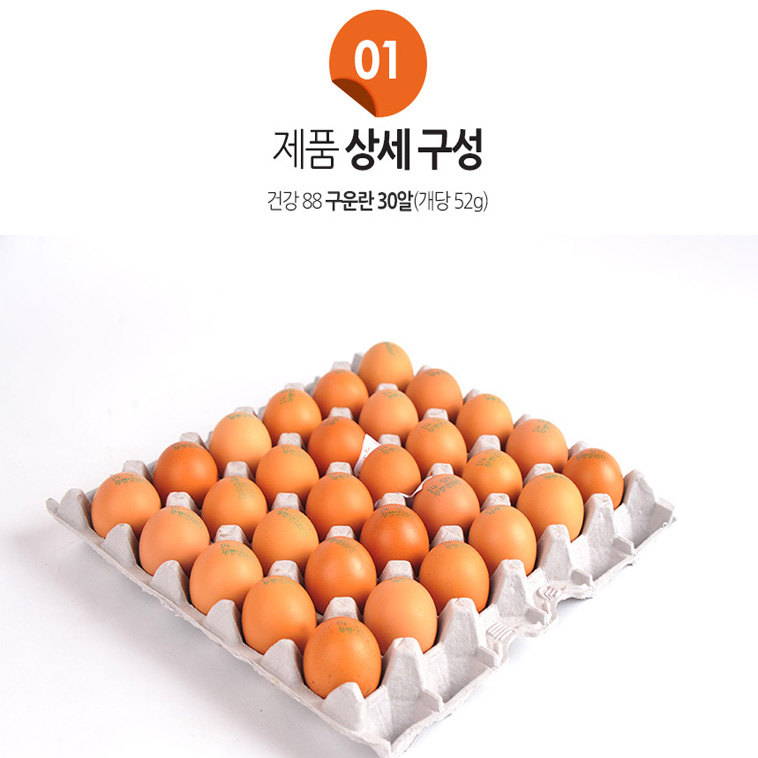egg: (86, 341, 628, 700)
